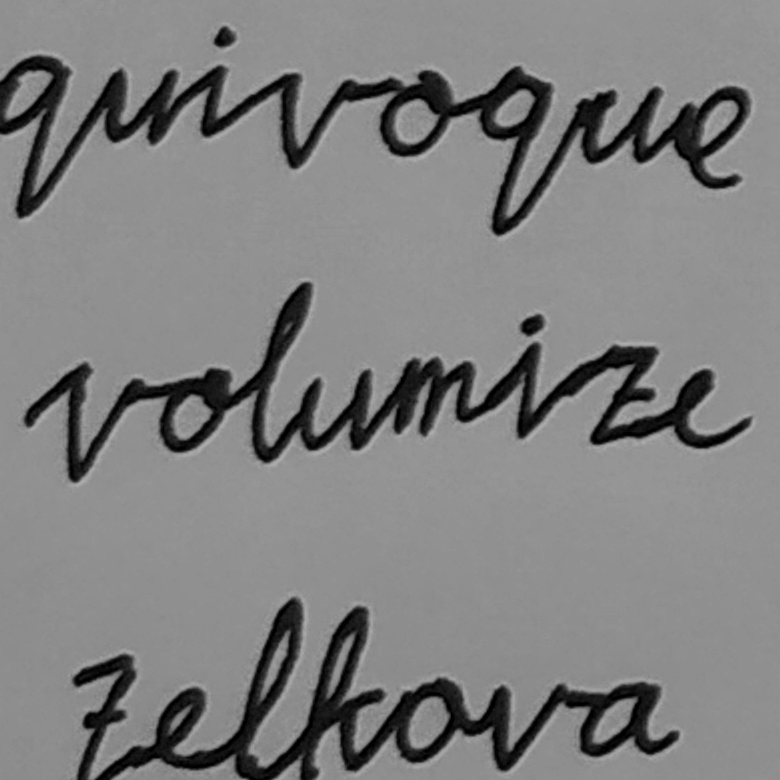e: (669, 362, 756, 451)
i: (497, 307, 556, 444)
l: (243, 276, 316, 466)
m: (384, 350, 482, 441)
o: (152, 364, 236, 460)
u: (296, 361, 379, 457)
v: (52, 357, 148, 490)
z: (585, 338, 663, 451)
